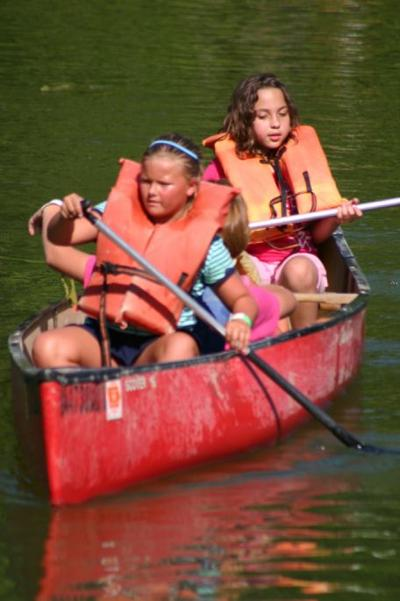person: (32, 133, 260, 374)
